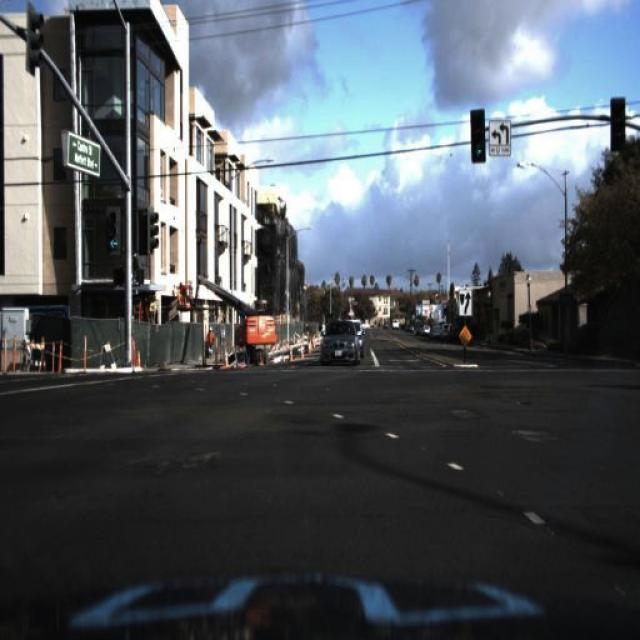semaforo: (471, 109, 485, 164), (106, 207, 120, 254)
